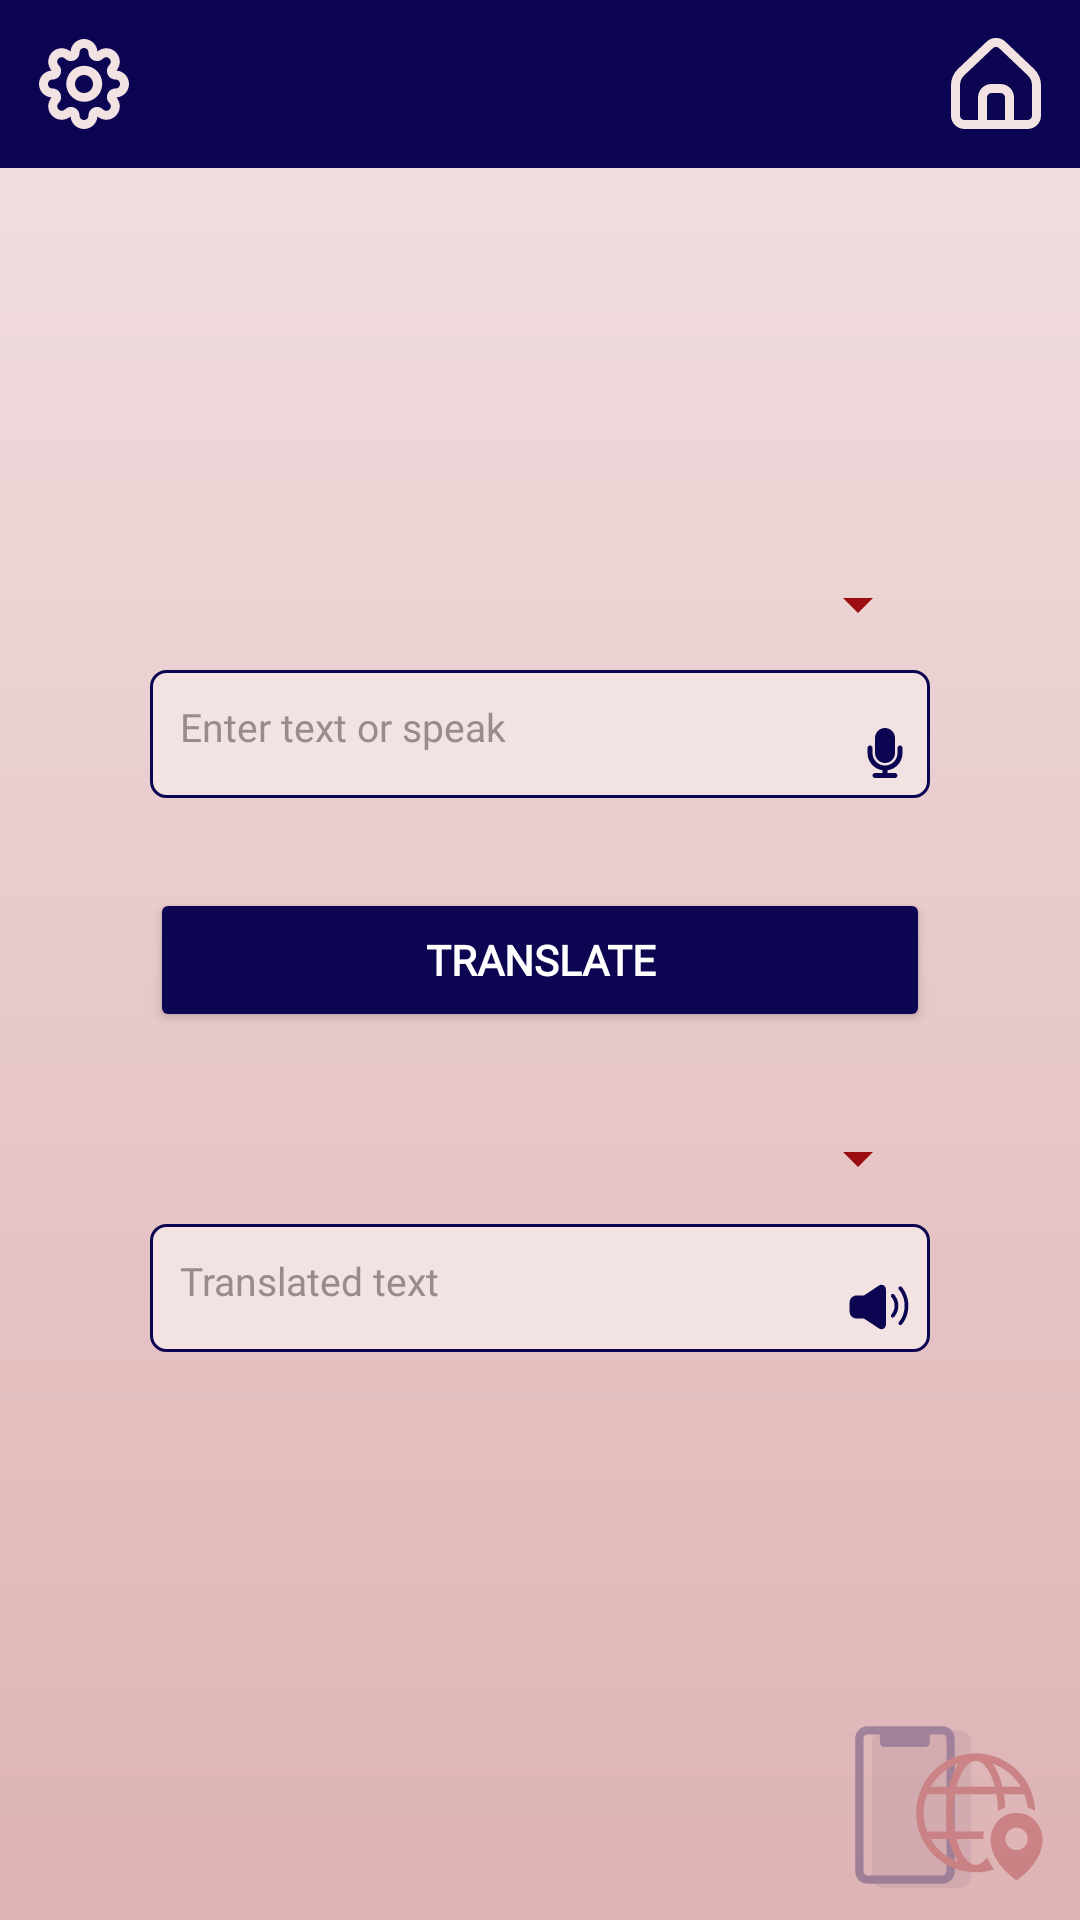

Icons on this 1080px×1920px Android screen, each with its box as (x1, y1, x2, y2):
mic: (867, 728, 903, 778)
